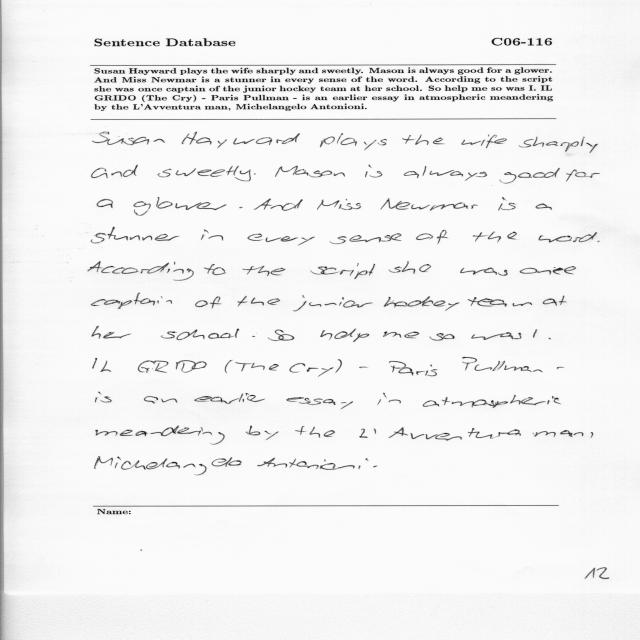word: (95, 457, 242, 476), (96, 426, 225, 445), (359, 427, 521, 441), (88, 261, 194, 281), (182, 132, 300, 148), (423, 395, 561, 408), (134, 197, 227, 216), (91, 227, 180, 244), (157, 166, 256, 181), (258, 457, 369, 470), (91, 293, 172, 309), (293, 296, 373, 312), (519, 137, 598, 153), (381, 198, 478, 211), (404, 166, 487, 181), (462, 357, 543, 372), (320, 133, 387, 151), (384, 296, 459, 311), (310, 263, 375, 279), (93, 132, 165, 145), (500, 168, 560, 183), (138, 360, 207, 373), (161, 329, 239, 340), (247, 234, 315, 246), (286, 397, 353, 409), (330, 233, 402, 244), (194, 393, 265, 404), (389, 361, 437, 376), (468, 297, 532, 307), (254, 198, 303, 211), (320, 329, 369, 342), (461, 135, 507, 148), (92, 165, 138, 178), (539, 232, 597, 242), (290, 363, 334, 376), (389, 261, 431, 274), (92, 326, 131, 339), (520, 266, 576, 275), (317, 199, 361, 210), (473, 232, 517, 243), (295, 426, 335, 438), (246, 426, 279, 440), (416, 230, 448, 244), (566, 169, 600, 182), (235, 362, 279, 372), (460, 267, 508, 276), (242, 266, 285, 276), (403, 135, 445, 145), (238, 296, 280, 306), (471, 332, 521, 340), (275, 166, 309, 177), (533, 430, 584, 437), (195, 297, 222, 309), (268, 330, 295, 341), (377, 393, 401, 405), (144, 396, 178, 404), (543, 295, 567, 306), (309, 171, 345, 178), (498, 197, 516, 211), (383, 332, 419, 339), (93, 358, 111, 372), (201, 230, 223, 241), (204, 264, 226, 275), (365, 165, 383, 177), (430, 333, 455, 341), (96, 392, 112, 403), (97, 199, 113, 208), (535, 203, 552, 210), (224, 360, 233, 373), (335, 359, 342, 373), (533, 329, 537, 338), (591, 432, 594, 438), (557, 367, 564, 369), (359, 367, 368, 368), (373, 466, 377, 468), (239, 207, 243, 208), (549, 338, 551, 340), (597, 241, 600, 242), (253, 336, 256, 337)
